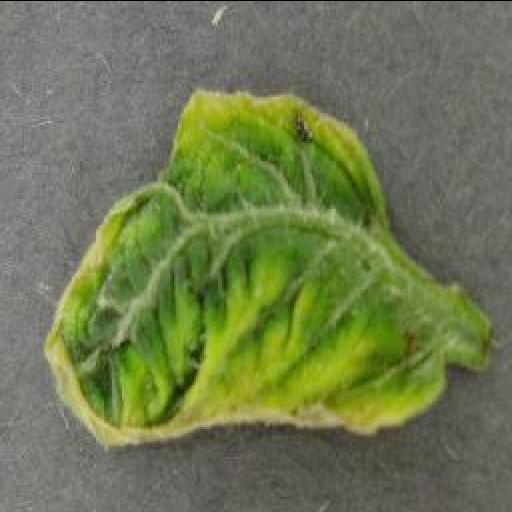disease_tomato: (44, 87, 444, 445)
